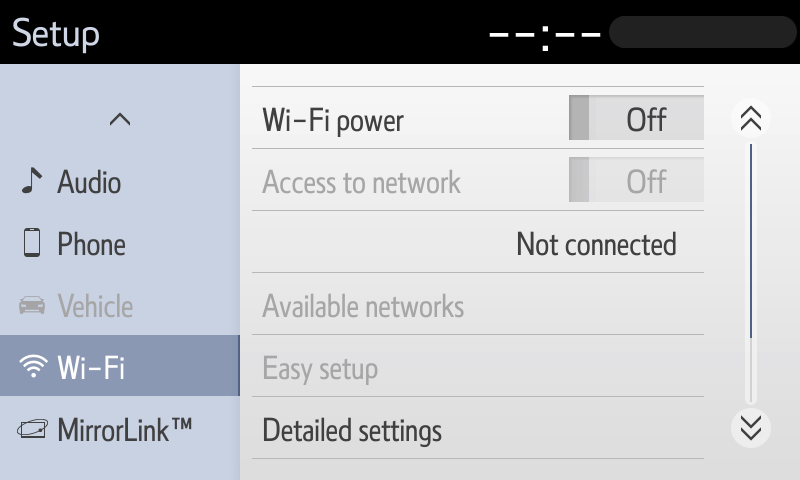touchPart: (252, 393, 716, 461), (249, 83, 709, 151), (12, 410, 199, 449), (14, 223, 138, 266), (23, 159, 133, 199), (725, 405, 776, 446), (736, 104, 772, 135), (104, 105, 138, 133)
untouchPart: (252, 270, 702, 338), (248, 145, 706, 211), (248, 333, 710, 398), (1, 331, 242, 403), (474, 10, 797, 55), (12, 12, 108, 55), (12, 289, 145, 320)
